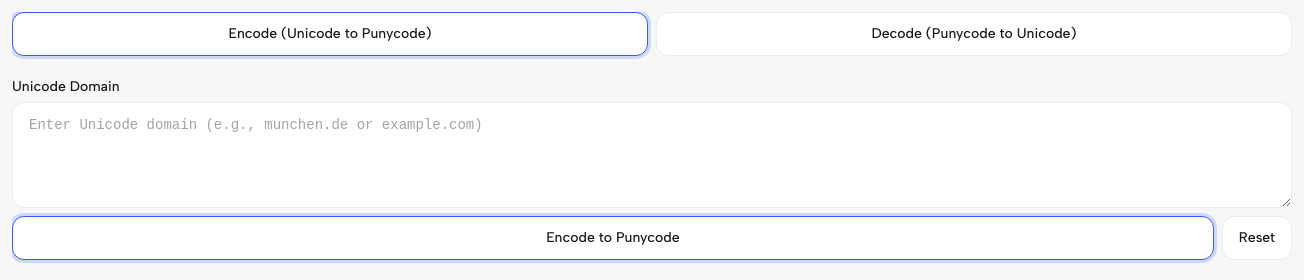
Scenario: PunycodeTool › switches to decode mode
Step 1. Click the button "Decode (Punycode to Unicode)" → click(974, 34), box [656,12,1292,56]
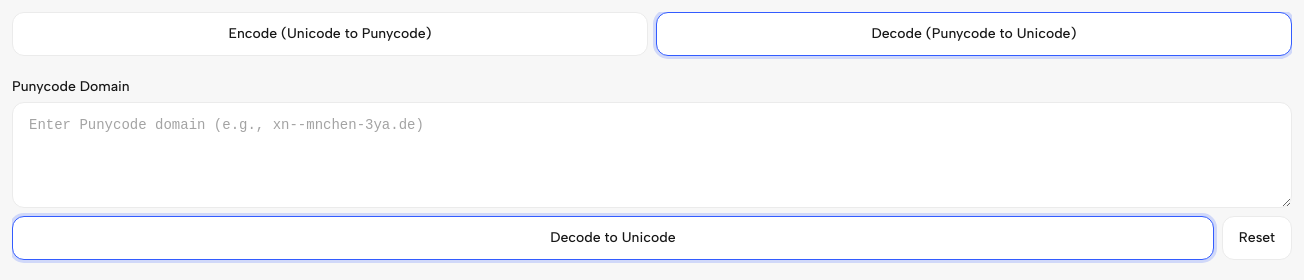
Expected: the text "Punycode Domain" is shown, [12,78,130,95]
Expected: the button "Decode to Unicode" is shown, [12,216,1214,260]
